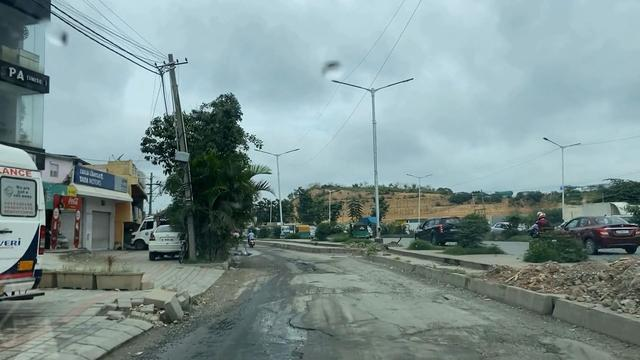RoadDamages: (226, 283, 319, 360), (402, 313, 550, 360)
